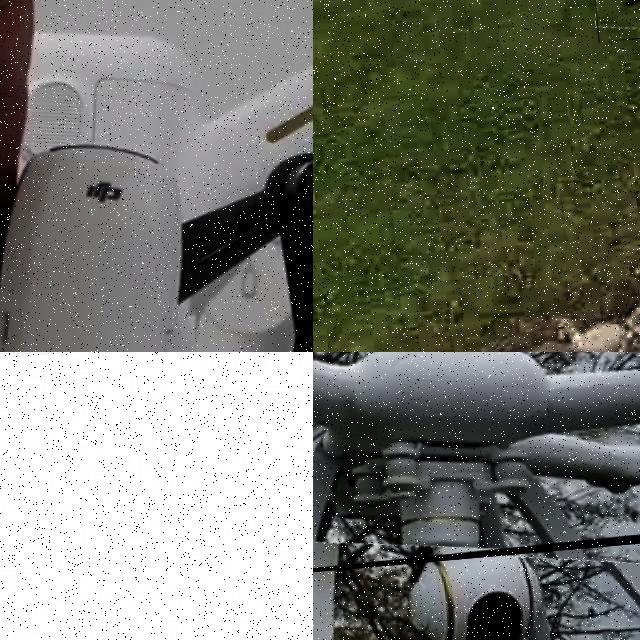drone: (0, 0, 313, 352), (313, 352, 640, 595)
